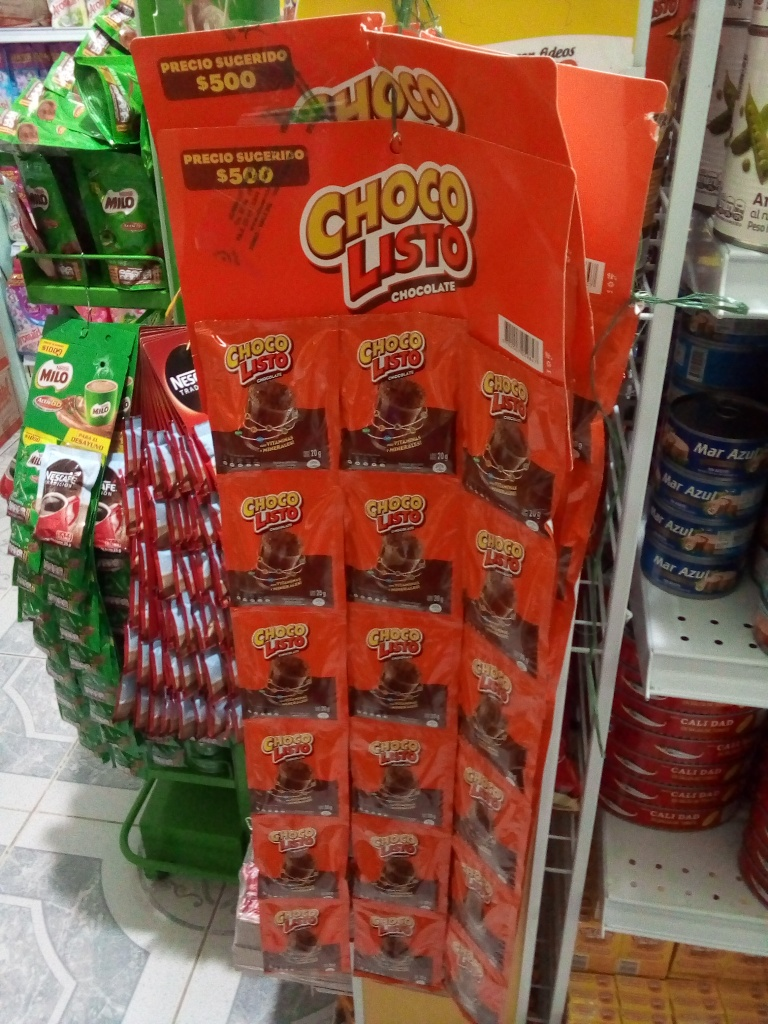COL0170103SOB02000: (199, 307, 342, 465)
COL0170203DYP10000: (5, 152, 79, 289)
